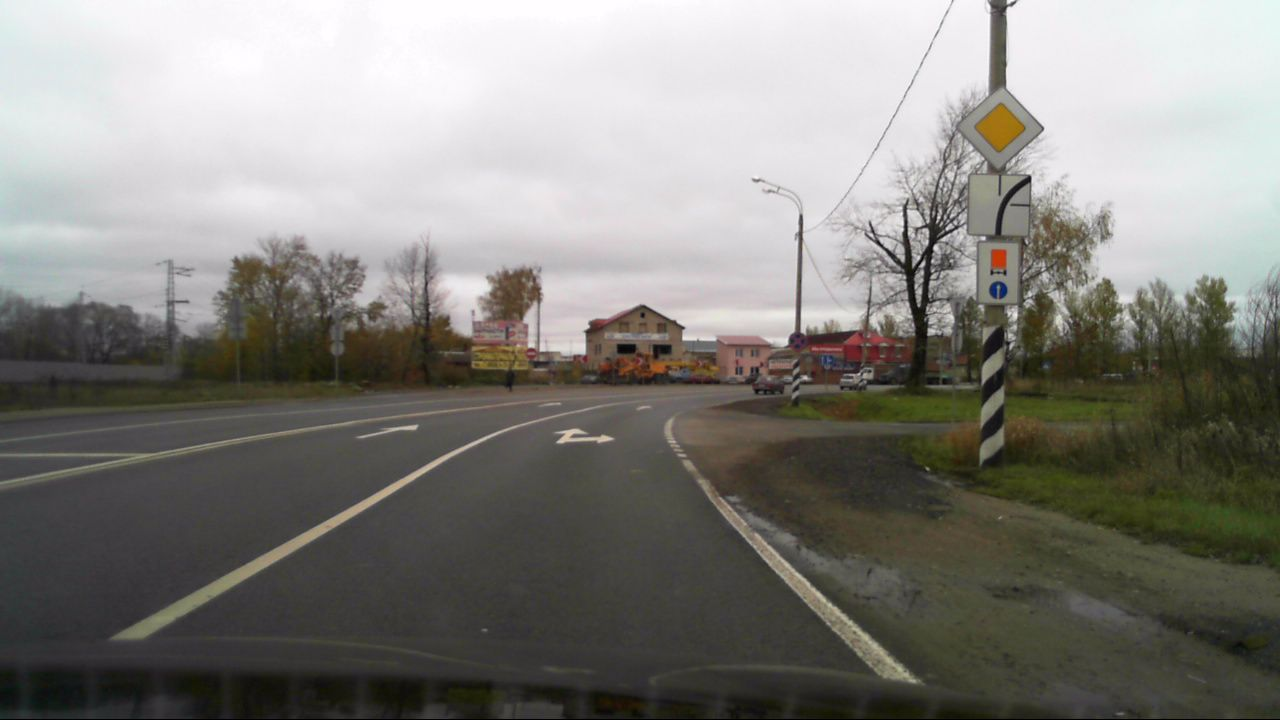No Parking: (787, 331, 807, 351)
